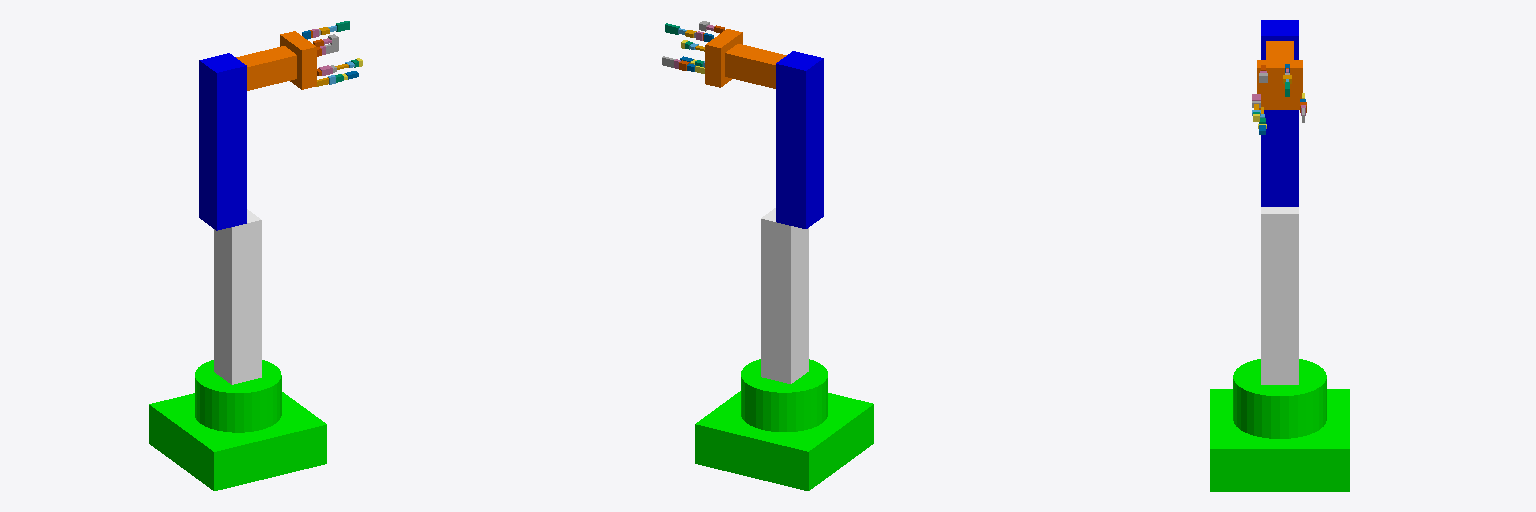
robot.urdf — robot:
<?xml version='1.0' encoding='utf-8'?>
<robot name="robot">
  <link name="base_link">
    <visual>
      <origin xyz="0 0 0.125" rpy="0 0 0" />
      <geometry>
        <box size="0.75 0.75 0.25" />
      </geometry>
      <material name="green" />
    </visual>
    <visual>
      <origin xyz="0 0 0.375" rpy="0 0 0" />
      <geometry>
        <cylinder length="0.25" radius="0.25" />
      </geometry>
      <material name="green">
        <color rgba="0 1 0 1" />
      </material>
    </visual>
    <collision>
      <geometry>
        <box size="0.75 0.75 0.5" />
      </geometry>
    </collision>
    <inertial>
      <mass value="0.5" />
      <inertia ixx="0.034" ixy="0.0" ixz="0.0" iyy="0.034" iyz="0.0" izz="0.034" />
    </inertial>
  </link>
  <link name="support_link">
    <visual>
      <origin xyz="0 0 0.5" rpy="0 0 0" />
      <geometry>
        <box size="0.2 0.2 1" />
      </geometry>
      <material name="white">
        <color rgba="1 1 1 1" />
      </material>
    </visual>
    <collision>
      <geometry>
        <box size="0.2 0.2 1" />
      </geometry>
    </collision>
    <inertial>
      <mass value="0.1" />
      <inertia ixx="0.01" ixy="0.0" ixz="0.0" iyy="0.01" iyz="0.0" izz="0.01" />
    </inertial>
  </link>
  <joint name="support_joint" type="continuous">
    <origin xyz="0 0 0.5" rpy="0 0 0" />
    <parent link="base_link" />
    <child link="support_link" />
    <axis xyz="0 0 1" />
  </joint>
  <link name="arm_link">
    <visual>
      <origin xyz="0 0 0.5" rpy="0 0 0" />
      <geometry>
        <box size="0.2 0.2 1" />
      </geometry>
      <material name="blue">
        <color rgba="0 0 1 1" />
      </material>
    </visual>
    <collision>
      <geometry>
        <box size="0.2 0.2 1" />
      </geometry>
    </collision>
    <inertial>
      <mass value="0.1" />
      <inertia ixx="0.01" ixy="0.0" ixz="0.0" iyy="0.01" iyz="0.0" izz="0.01" />
    </inertial>
  </link>
  <joint name="arm_joint" type="revolute">
    <origin xyz="-0.1 0 1" rpy="0 0 0" />
    <parent link="support_link" />
    <child link="arm_link" />
    <axis xyz="0 1 0" />
    <limit lower="-3.14" upper="3.14" effort="1.0" velocity="1.0" />
  </joint>
  <link name="wrist_link">
    <visual>
      <origin xyz="0 0 0.25" rpy="0 0 0" />
      <geometry>
        <box size="0.15 0.15 0.5" />
      </geometry>
      <material name="orange">
        <color rgba="1 0.5 0 1" />
      </material>
    </visual>
    <collision>
      <geometry>
        <box size="0.15 0.15 0.5" />
      </geometry>
    </collision>
    <inertial>
      <mass value="0.1" />
      <inertia ixx="0.01" ixy="0.0" ixz="0.0" iyy="0.01" iyz="0.0" izz="0.01" />
    </inertial>
  </link>
  <joint name="wrist_joint" type="fixed">
    <origin xyz="0 0 0.9" rpy="0 1.571 0" />
    <parent link="arm_link" />
    <child link="wrist_link" />
  </joint>
  <link name="palm_link">
    <visual>
      <origin xyz="0 0 0.05" rpy="0 0 0" />
      <geometry>
        <box size="0.25 0.25 0.1" />
      </geometry>
      <material name="orange" />
    </visual>
    <collision>
      <geometry>
        <box size="0.25 0.25 0.1" />
      </geometry>
    </collision>
    <inertial>
      <mass value="0.1" />
      <inertia ixx="0.01" ixy="0.0" ixz="0.0" iyy="0.01" iyz="0.0" izz="0.01" />
    </inertial>
  </link>
  <joint name="palm_joint" type="fixed">
    <origin xyz="0 0 0.45" rpy="0 0 0" />
    <parent link="wrist_link" />
    <child link="palm_link" />
  </joint>
  <link name="finger_link_0_0">
    <visual>
      <origin xyz="0 0 0.0115" rpy="0 0 0" />
      <geometry>
        <box size="0.028 0.045 0.023" />
      </geometry>
    </visual>
    <collision>
      <geometry>
        <box size="0.028 0.045 0.023" />
      </geometry>
    </collision>
    <inertial>
      <mass value="0.009" />
      <inertia ixx="0.0" iyy="0.0" izz="0.0" ixy="0" ixz="0" iyz="0" />
    </inertial>
  </link>
  <joint name="finger_joint_palm_link_to_finger_link_0_0" type="revolute">
    <origin xyz="0.04 -0.125 0.1" rpy="0 0 0" />
    <parent link="palm_link" />
    <child link="finger_link_0_0" />
    <axis xyz="1.0 0.0 0.0" />
    <limit lower="-3.142" upper="3.142" effort="10" velocity="10" />
  </joint>
  <link name="finger_link_0_1">
    <visual>
      <origin xyz="0 0 0.0345" rpy="0 0 0" />
      <geometry>
        <box size="0.038 0.044 0.069" />
      </geometry>
    </visual>
    <collision>
      <geometry>
        <box size="0.038 0.044 0.069" />
      </geometry>
    </collision>
    <inertial>
      <mass value="0.035" />
      <inertia ixx="0.0" iyy="0.0" izz="0.0" ixy="0" ixz="0" iyz="0" />
    </inertial>
  </link>
  <joint name="finger_joint_finger_link_0_0_to_finger_link_0_1" type="revolute">
    <origin xyz="0.0 0.0 0.023" rpy="0 0 0" />
    <parent link="finger_link_0_0" />
    <child link="finger_link_0_1" />
    <axis xyz="1.0 0.0 0.0" />
    <limit lower="-3.142" upper="3.142" effort="10" velocity="10" />
  </joint>
  <link name="finger_link_0_2">
    <visual>
      <origin xyz="0 0 0.014" rpy="0 0 0" />
      <geometry>
        <box size="0.027 0.044 0.028" />
      </geometry>
    </visual>
    <collision>
      <geometry>
        <box size="0.027 0.044 0.028" />
      </geometry>
    </collision>
    <inertial>
      <mass value="0.01" />
      <inertia ixx="0.0" iyy="0.0" izz="0.0" ixy="0" ixz="0" iyz="0" />
    </inertial>
  </link>
  <joint name="finger_joint_finger_link_0_1_to_finger_link_0_2" type="revolute">
    <origin xyz="0.0 0.0 0.069" rpy="0 0 0" />
    <parent link="finger_link_0_1" />
    <child link="finger_link_0_2" />
    <axis xyz="1.0 0.0 0.0" />
    <limit lower="-3.142" upper="3.142" effort="10" velocity="10" />
  </joint>
  <link name="finger_link_0_3">
    <visual>
      <origin xyz="0 0 0.0415" rpy="0 0 0" />
      <geometry>
        <box size="0.013 0.031 0.083" />
      </geometry>
    </visual>
    <collision>
      <geometry>
        <box size="0.013 0.031 0.083" />
      </geometry>
    </collision>
    <inertial>
      <mass value="0.01" />
      <inertia ixx="0.0" iyy="0.0" izz="0.0" ixy="0" ixz="0" iyz="0" />
    </inertial>
  </link>
  <joint name="finger_joint_finger_link_0_2_to_finger_link_0_3" type="revolute">
    <origin xyz="0.0 0.0 0.028" rpy="0 0 0" />
    <parent link="finger_link_0_2" />
    <child link="finger_link_0_3" />
    <axis xyz="0.0 1.0 0.0" />
    <limit lower="-3.142" upper="3.142" effort="10" velocity="10" />
  </joint>
  <link name="finger_link_0_4">
    <visual>
      <origin xyz="0 0 0.018" rpy="0 0 0" />
      <geometry>
        <box size="0.018 0.048 0.036" />
      </geometry>
    </visual>
    <collision>
      <geometry>
        <box size="0.018 0.048 0.036" />
      </geometry>
    </collision>
    <inertial>
      <mass value="0.009" />
      <inertia ixx="0.0" iyy="0.0" izz="0.0" ixy="0" ixz="0" iyz="0" />
    </inertial>
  </link>
  <joint name="finger_joint_finger_link_0_3_to_finger_link_0_4" type="revolute">
    <origin xyz="0.0 0.0 0.083" rpy="0 0 0" />
    <parent link="finger_link_0_3" />
    <child link="finger_link_0_4" />
    <axis xyz="1.0 0.0 0.0" />
    <limit lower="-3.142" upper="3.142" effort="10" velocity="10" />
  </joint>
  <link name="finger_link_0_5">
    <visual>
      <origin xyz="0 0 0.0155" rpy="0 0 0" />
      <geometry>
        <box size="0.03 0.04 0.031" />
      </geometry>
    </visual>
    <collision>
      <geometry>
        <box size="0.03 0.04 0.031" />
      </geometry>
    </collision>
    <inertial>
      <mass value="0.011" />
      <inertia ixx="0.0" iyy="0.0" izz="0.0" ixy="0" ixz="0" iyz="0" />
    </inertial>
  </link>
  <joint name="finger_joint_finger_link_0_4_to_finger_link_0_5" type="revolute">
    <origin xyz="0.0 0.0 0.036" rpy="0 0 0" />
    <parent link="finger_link_0_4" />
    <child link="finger_link_0_5" />
    <axis xyz="1.0 0.0 0.0" />
    <limit lower="-3.142" upper="3.142" effort="10" velocity="10" />
  </joint>
  <link name="finger_link_0_6">
    <visual>
      <origin xyz="0 0 0.012" rpy="0 0 0" />
      <geometry>
        <box size="0.037 0.042 0.024" />
      </geometry>
    </visual>
    <collision>
      <geometry>
        <box size="0.037 0.042 0.024" />
      </geometry>
    </collision>
    <inertial>
      <mass value="0.011" />
      <inertia ixx="0.0" iyy="0.0" izz="0.0" ixy="0" ixz="0" iyz="0" />
    </inertial>
  </link>
  <joint name="finger_joint_finger_link_0_5_to_finger_link_0_6" type="revolute">
    <origin xyz="0.0 0.0 0.031" rpy="0 0 0" />
    <parent link="finger_link_0_5" />
    <child link="finger_link_0_6" />
    <axis xyz="0.0 1.0 0.0" />
    <limit lower="-3.142" upper="3.142" effort="10" velocity="10" />
  </joint>
  <link name="finger_link_1_0">
    <visual>
      <origin xyz="0 0 0.026" rpy="0 0 0" />
      <geometry>
        <box size="0.045 0.022 0.052" />
      </geometry>
    </visual>
    <collision>
      <geometry>
        <box size="0.045 0.022 0.052" />
      </geometry>
    </collision>
    <inertial>
      <mass value="0.015" />
      <inertia ixx="0.0" iyy="0.0" izz="0.0" ixy="0" ixz="0" iyz="0" />
    </inertial>
  </link>
  <joint name="finger_joint_palm_link_to_finger_link_1_0" type="revolute">
    <origin xyz="-0.125 0.04 0.1" rpy="0 0 0" />
    <parent link="palm_link" />
    <child link="finger_link_1_0" />
    <axis xyz="0.0 -1.0 0.0" />
    <limit lower="-3.142" upper="3.142" effort="10" velocity="10" />
  </joint>
  <link name="finger_link_1_1">
    <visual>
      <origin xyz="0 0 0.0065" rpy="0 0 0" />
      <geometry>
        <box size="0.044 0.011 0.013" />
      </geometry>
    </visual>
    <collision>
      <geometry>
        <box size="0.044 0.011 0.013" />
      </geometry>
    </collision>
    <inertial>
      <mass value="0.002" />
      <inertia ixx="0.0" iyy="0.0" izz="0.0" ixy="0" ixz="0" iyz="0" />
    </inertial>
  </link>
  <joint name="finger_joint_finger_link_1_0_to_finger_link_1_1" type="revolute">
    <origin xyz="0.0 0.0 0.052" rpy="0 0 0" />
    <parent link="finger_link_1_0" />
    <child link="finger_link_1_1" />
    <axis xyz="0.0 1.0 0.0" />
    <limit lower="-3.142" upper="3.142" effort="10" velocity="10" />
  </joint>
  <link name="finger_link_1_2">
    <visual>
      <origin xyz="0 0 0.019" rpy="0 0 0" />
      <geometry>
        <box size="0.045 0.02 0.038" />
      </geometry>
    </visual>
    <collision>
      <geometry>
        <box size="0.045 0.02 0.038" />
      </geometry>
    </collision>
    <inertial>
      <mass value="0.01" />
      <inertia ixx="0.0" iyy="0.0" izz="0.0" ixy="0" ixz="0" iyz="0" />
    </inertial>
  </link>
  <joint name="finger_joint_finger_link_1_1_to_finger_link_1_2" type="revolute">
    <origin xyz="0.0 0.0 0.013" rpy="0 0 0" />
    <parent link="finger_link_1_1" />
    <child link="finger_link_1_2" />
    <axis xyz="1.0 0.0 0.0" />
    <limit lower="-3.142" upper="3.142" effort="10" velocity="10" />
  </joint>
  <link name="finger_link_1_3">
    <visual>
      <origin xyz="0 0 0.0075" rpy="0 0 0" />
      <geometry>
        <box size="0.031 0.022 0.015" />
      </geometry>
    </visual>
    <collision>
      <geometry>
        <box size="0.031 0.022 0.015" />
      </geometry>
    </collision>
    <inertial>
      <mass value="0.003" />
      <inertia ixx="0.0" iyy="0.0" izz="0.0" ixy="0" ixz="0" iyz="0" />
    </inertial>
  </link>
  <joint name="finger_joint_finger_link_1_2_to_finger_link_1_3" type="revolute">
    <origin xyz="0.0 0.0 0.038" rpy="0 0 0" />
    <parent link="finger_link_1_2" />
    <child link="finger_link_1_3" />
    <axis xyz="0.0 1.0 0.0" />
    <limit lower="-3.142" upper="3.142" effort="10" velocity="10" />
  </joint>
  <link name="finger_link_1_4">
    <visual>
      <origin xyz="0 0 0.027" rpy="0 0 0" />
      <geometry>
        <box size="0.024 0.045 0.054" />
      </geometry>
    </visual>
    <collision>
      <geometry>
        <box size="0.024 0.045 0.054" />
      </geometry>
    </collision>
    <inertial>
      <mass value="0.017" />
      <inertia ixx="0.0" iyy="0.0" izz="0.0" ixy="0" ixz="0" iyz="0" />
    </inertial>
  </link>
  <joint name="finger_joint_finger_link_1_3_to_finger_link_1_4" type="revolute">
    <origin xyz="0.0 0.0 0.015" rpy="0 0 0" />
    <parent link="finger_link_1_3" />
    <child link="finger_link_1_4" />
    <axis xyz="0.0 1.0 0.0" />
    <limit lower="-3.142" upper="3.142" effort="10" velocity="10" />
  </joint>
  <link name="finger_link_1_5">
    <visual>
      <origin xyz="0 0 0.027" rpy="0 0 0" />
      <geometry>
        <box size="0.027 0.016 0.054" />
      </geometry>
    </visual>
    <collision>
      <geometry>
        <box size="0.027 0.016 0.054" />
      </geometry>
    </collision>
    <inertial>
      <mass value="0.007" />
      <inertia ixx="0.0" iyy="0.0" izz="0.0" ixy="0" ixz="0" iyz="0" />
    </inertial>
  </link>
  <joint name="finger_joint_finger_link_1_4_to_finger_link_1_5" type="revolute">
    <origin xyz="0.0 0.0 0.054" rpy="0 0 0" />
    <parent link="finger_link_1_4" />
    <child link="finger_link_1_5" />
    <axis xyz="0.0 1.0 0.0" />
    <limit lower="-3.142" upper="3.142" effort="10" velocity="10" />
  </joint>
  <link name="finger_link_1_6">
    <visual>
      <origin xyz="0 0 0.0425" rpy="0 0 0" />
      <geometry>
        <box size="0.047 0.022 0.085" />
      </geometry>
    </visual>
    <collision>
      <geometry>
        <box size="0.047 0.022 0.085" />
      </geometry>
    </collision>
    <inertial>
      <mass value="0.026" />
      <inertia ixx="0.0" iyy="0.0" izz="0.0" ixy="0" ixz="0" iyz="0" />
    </inertial>
  </link>
  <joint name="finger_joint_finger_link_1_5_to_finger_link_1_6" type="revolute">
    <origin xyz="0.0 0.0 0.054" rpy="0 0 0" />
    <parent link="finger_link_1_5" />
    <child link="finger_link_1_6" />
    <axis xyz="0.0 1.0 0.0" />
    <limit lower="-3.142" upper="3.142" effort="10" velocity="10" />
  </joint>
  <link name="finger_link_2_0">
    <visual>
      <origin xyz="0 0 0.033" rpy="0 0 0" />
      <geometry>
        <box size="0.036 0.012 0.066" />
      </geometry>
    </visual>
    <collision>
      <geometry>
        <box size="0.036 0.012 0.066" />
      </geometry>
    </collision>
    <inertial>
      <mass value="0.009" />
      <inertia ixx="0.0" iyy="0.0" izz="0.0" ixy="0" ixz="0" iyz="0" />
    </inertial>
  </link>
  <joint name="finger_joint_palm_link_to_finger_link_2_0" type="revolute">
    <origin xyz="0.042 0.125 0.1" rpy="0 0 0" />
    <parent link="palm_link" />
    <child link="finger_link_2_0" />
    <axis xyz="-1.0 0.0 0.0" />
    <limit lower="-3.142" upper="3.142" effort="10" velocity="10" />
  </joint>
  <link name="finger_link_2_1">
    <visual>
      <origin xyz="0 0 0.0245" rpy="0 0 0" />
      <geometry>
        <box size="0.032 0.032 0.049" />
      </geometry>
    </visual>
    <collision>
      <geometry>
        <box size="0.032 0.032 0.049" />
      </geometry>
    </collision>
    <inertial>
      <mass value="0.015" />
      <inertia ixx="0.0" iyy="0.0" izz="0.0" ixy="0" ixz="0" iyz="0" />
    </inertial>
  </link>
  <joint name="finger_joint_finger_link_2_0_to_finger_link_2_1" type="revolute">
    <origin xyz="0.0 0.0 0.066" rpy="0 0 0" />
    <parent link="finger_link_2_0" />
    <child link="finger_link_2_1" />
    <axis xyz="1.0 0.0 0.0" />
    <limit lower="-3.142" upper="3.142" effort="10" velocity="10" />
  </joint>
  <link name="finger_link_2_2">
    <visual>
      <origin xyz="0 0 0.025" rpy="0 0 0" />
      <geometry>
        <box size="0.044 0.039 0.05" />
      </geometry>
    </visual>
    <collision>
      <geometry>
        <box size="0.044 0.039 0.05" />
      </geometry>
    </collision>
    <inertial>
      <mass value="0.026" />
      <inertia ixx="0.0" iyy="0.0" izz="0.0" ixy="0" ixz="0" iyz="0" />
    </inertial>
  </link>
  <joint name="finger_joint_finger_link_2_1_to_finger_link_2_2" type="revolute">
    <origin xyz="0.0 0.0 0.049" rpy="0 0 0" />
    <parent link="finger_link_2_1" />
    <child link="finger_link_2_2" />
    <axis xyz="1.0 0.0 0.0" />
    <limit lower="-3.142" upper="3.142" effort="10" velocity="10" />
  </joint>
  <link name="finger_link_2_3">
    <visual>
      <origin xyz="0 0 0.017" rpy="0 0 0" />
      <geometry>
        <box size="0.049 0.023 0.034" />
      </geometry>
    </visual>
    <collision>
      <geometry>
        <box size="0.049 0.023 0.034" />
      </geometry>
    </collision>
    <inertial>
      <mass value="0.011" />
      <inertia ixx="0.0" iyy="0.0" izz="0.0" ixy="0" ixz="0" iyz="0" />
    </inertial>
  </link>
  <joint name="finger_joint_finger_link_2_2_to_finger_link_2_3" type="revolute">
    <origin xyz="0.0 0.0 0.05" rpy="0 0 0" />
    <parent link="finger_link_2_2" />
    <child link="finger_link_2_3" />
    <axis xyz="1.0 0.0 0.0" />
    <limit lower="-3.142" upper="3.142" effort="10" velocity="10" />
  </joint>
  <link name="finger_link_2_4">
    <visual>
      <origin xyz="0 0 0.042" rpy="0 0 0" />
      <geometry>
        <box size="0.049 0.019 0.084" />
      </geometry>
    </visual>
    <collision>
      <geometry>
        <box size="0.049 0.019 0.084" />
      </geometry>
    </collision>
    <inertial>
      <mass value="0.023" />
      <inertia ixx="0.0" iyy="0.0" izz="0.0" ixy="0" ixz="0" iyz="0" />
    </inertial>
  </link>
  <joint name="finger_joint_finger_link_2_3_to_finger_link_2_4" type="revolute">
    <origin xyz="0.0 0.0 0.034" rpy="0 0 0" />
    <parent link="finger_link_2_3" />
    <child link="finger_link_2_4" />
    <axis xyz="0.0 1.0 0.0" />
    <limit lower="-3.142" upper="3.142" effort="10" velocity="10" />
  </joint>
  <link name="finger_link_3_0">
    <visual>
      <origin xyz="0 0 0.048" rpy="0 0 0" />
      <geometry>
        <box size="0.034 0.02 0.096" />
      </geometry>
    </visual>
    <collision>
      <geometry>
        <box size="0.034 0.02 0.096" />
      </geometry>
    </collision>
    <inertial>
      <mass value="0.02" />
      <inertia ixx="0.0" iyy="0.0" izz="0.0" ixy="0" ixz="0" iyz="0" />
    </inertial>
  </link>
  <joint name="finger_joint_palm_link_to_finger_link_3_0" type="revolute">
    <origin xyz="0.125 -0.093 0.1" rpy="0 0 0" />
    <parent link="palm_link" />
    <child link="finger_link_3_0" />
    <axis xyz="0.0 1.0 0.0" />
    <limit lower="-3.142" upper="3.142" effort="10" velocity="10" />
  </joint>
  <link name="finger_link_3_1">
    <visual>
      <origin xyz="0 0 0.02" rpy="0 0 0" />
      <geometry>
        <box size="0.047 0.023 0.04" />
      </geometry>
    </visual>
    <collision>
      <geometry>
        <box size="0.047 0.023 0.04" />
      </geometry>
    </collision>
    <inertial>
      <mass value="0.013" />
      <inertia ixx="0.0" iyy="0.0" izz="0.0" ixy="0" ixz="0" iyz="0" />
    </inertial>
  </link>
  <joint name="finger_joint_finger_link_3_0_to_finger_link_3_1" type="revolute">
    <origin xyz="0.0 0.0 0.096" rpy="0 0 0" />
    <parent link="finger_link_3_0" />
    <child link="finger_link_3_1" />
    <axis xyz="0.0 1.0 0.0" />
    <limit lower="-3.142" upper="3.142" effort="10" velocity="10" />
  </joint>
  <link name="finger_link_3_2">
    <visual>
      <origin xyz="0 0 0.0255" rpy="0 0 0" />
      <geometry>
        <box size="0.032 0.034 0.051" />
      </geometry>
    </visual>
    <collision>
      <geometry>
        <box size="0.032 0.034 0.051" />
      </geometry>
    </collision>
    <inertial>
      <mass value="0.017" />
      <inertia ixx="0.0" iyy="0.0" izz="0.0" ixy="0" ixz="0" iyz="0" />
    </inertial>
  </link>
  <joint name="finger_joint_finger_link_3_1_to_finger_link_3_2" type="revolute">
    <origin xyz="0.0 0.0 0.04" rpy="0 0 0" />
    <parent link="finger_link_3_1" />
    <child link="finger_link_3_2" />
    <axis xyz="0.0 1.0 0.0" />
    <limit lower="-3.142" upper="3.142" effort="10" velocity="10" />
  </joint>
  <link name="finger_link_3_3">
    <visual>
      <origin xyz="0 0 0.0135" rpy="0 0 0" />
      <geometry>
        <box size="0.02 0.045 0.027" />
      </geometry>
    </visual>
    <collision>
      <geometry>
        <box size="0.02 0.045 0.027" />
      </geometry>
    </collision>
    <inertial>
      <mass value="0.007" />
      <inertia ixx="0.0" iyy="0.0" izz="0.0" ixy="0" ixz="0" iyz="0" />
    </inertial>
  </link>
  <joint name="finger_joint_finger_link_3_2_to_finger_link_3_3" type="revolute">
    <origin xyz="0.0 0.0 0.051" rpy="0 0 0" />
    <parent link="finger_link_3_2" />
    <child link="finger_link_3_3" />
    <axis xyz="0.0 1.0 0.0" />
    <limit lower="-3.142" upper="3.142" effort="10" velocity="10" />
  </joint>
  <link name="finger_link_3_4">
    <visual>
      <origin xyz="0 0 0.035" rpy="0 0 0" />
      <geometry>
        <box size="0.027 0.04 0.07" />
      </geometry>
    </visual>
    <collision>
      <geometry>
        <box size="0.027 0.04 0.07" />
      </geometry>
    </collision>
    <inertial>
      <mass value="0.023" />
      <inertia ixx="0.0" iyy="0.0" izz="0.0" ixy="0" ixz="0" iyz="0" />
    </inertial>
  </link>
  <joint name="finger_joint_finger_link_3_3_to_finger_link_3_4" type="revolute">
    <origin xyz="0.0 0.0 0.027" rpy="0 0 0" />
    <parent link="finger_link_3_3" />
    <child link="finger_link_3_4" />
    <axis xyz="1.0 0.0 0.0" />
    <limit lower="-3.142" upper="3.142" effort="10" velocity="10" />
  </joint>
  <link name="finger_link_4_0">
    <visual>
      <origin xyz="0 0 0.0295" rpy="0 0 0" />
      <geometry>
        <box size="0.031 0.026 0.059" />
      </geometry>
    </visual>
    <collision>
      <geometry>
        <box size="0.031 0.026 0.059" />
      </geometry>
    </collision>
    <inertial>
      <mass value="0.014" />
      <inertia ixx="0.0" iyy="0.0" izz="0.0" ixy="0" ixz="0" iyz="0" />
    </inertial>
  </link>
  <joint name="finger_joint_palm_link_to_finger_link_4_0" type="revolute">
    <origin xyz="-0.125 -0.089 0.1" rpy="0 0 0" />
    <parent link="palm_link" />
    <child link="finger_link_4_0" />
    <axis xyz="0.0 -1.0 0.0" />
    <limit lower="-3.142" upper="3.142" effort="10" velocity="10" />
  </joint>
  <link name="finger_link_4_1">
    <visual>
      <origin xyz="0 0 0.025" rpy="0 0 0" />
      <geometry>
        <box size="0.015 0.037 0.05" />
      </geometry>
    </visual>
    <collision>
      <geometry>
        <box size="0.015 0.037 0.05" />
      </geometry>
    </collision>
    <inertial>
      <mass value="0.008" />
      <inertia ixx="0.0" iyy="0.0" izz="0.0" ixy="0" ixz="0" iyz="0" />
    </inertial>
  </link>
  <joint name="finger_joint_finger_link_4_0_to_finger_link_4_1" type="revolute">
    <origin xyz="0.0 0.0 0.059" rpy="0 0 0" />
    <parent link="finger_link_4_0" />
    <child link="finger_link_4_1" />
    <axis xyz="1.0 0.0 0.0" />
    <limit lower="-3.142" upper="3.142" effort="10" velocity="10" />
  </joint>
  <link name="finger_link_4_2">
    <visual>
      <origin xyz="0 0 0.0215" rpy="0 0 0" />
      <geometry>
        <box size="0.042 0.047 0.043" />
      </geometry>
    </visual>
    <collision>
      <geometry>
        <box size="0.042 0.047 0.043" />
      </geometry>
    </collision>
    <inertial>
      <mass value="0.025" />
      <inertia ixx="0.0" iyy="0.0" izz="0.0" ixy="0" ixz="0" iyz="0" />
    </inertial>
  </link>
  <joint name="finger_joint_finger_link_4_1_to_finger_link_4_2" type="revolute">
    <origin xyz="0.0 0.0 0.05" rpy="0 0 0" />
    <parent link="finger_link_4_1" />
    <child link="finger_link_4_2" />
    <axis xyz="1.0 0.0 0.0" />
    <limit lower="-3.142" upper="3.142" effort="10" velocity="10" />
  </joint>
</robot>

--- Facts derived from the render (not from the file) ---
Views: 3 orthographic renders of the robot side by side, from view 1: azimuth 30°, elevation 25°; view 2: azimuth 150°, elevation 25°; view 3: azimuth 270°, elevation 25°.
Model robot with 32 links and 31 joints (28 revolute, 1 continuous, 2 fixed), rooted at base_link, posed every joint at zero.
Visible links, largest first — view 1: base_link, arm_link, support_link, wrist_link, palm_link; view 2: base_link, arm_link, support_link, wrist_link, palm_link; view 3: base_link, support_link, arm_link, palm_link, wrist_link.
Boxes of the visible links, bbox=[...] form: base_link: bbox=[149, 360, 326, 490]; arm_link: bbox=[199, 53, 246, 230]; support_link: bbox=[214, 209, 261, 384]; wrist_link: bbox=[236, 46, 296, 90]; palm_link: bbox=[280, 31, 316, 89]; base_link: bbox=[695, 359, 873, 490]; arm_link: bbox=[776, 51, 823, 228]; support_link: bbox=[761, 208, 808, 383]; wrist_link: bbox=[725, 44, 786, 88]; palm_link: bbox=[705, 29, 742, 87]; base_link: bbox=[1210, 359, 1349, 491]; support_link: bbox=[1261, 207, 1298, 384]; arm_link: bbox=[1261, 20, 1298, 206]; palm_link: bbox=[1257, 60, 1302, 109]; wrist_link: bbox=[1266, 41, 1293, 59].
Bounding box of the posed robot: 1.14 × 0.75 × 2.55 m (x, y, z).
Geometry: primitives only (box / cylinder / sphere), no mesh files.